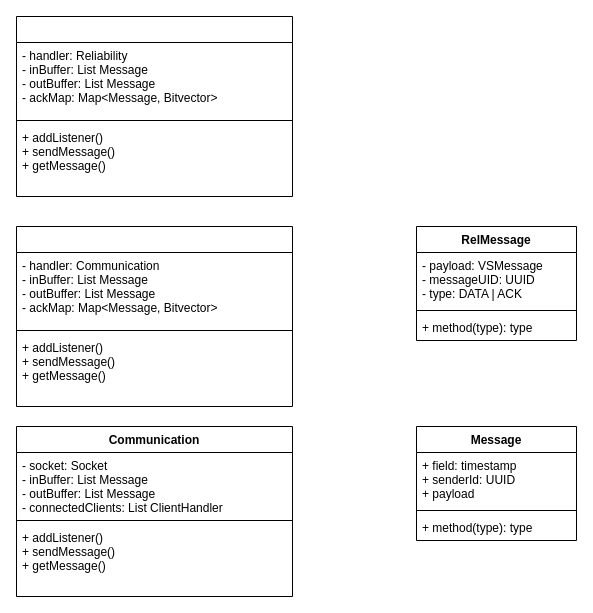
The diagram is 593 pixels wide and 613 high, and some of its shapes have lost their labels. The box of each missing label's shape, as (x1, y1, x2, y2) in pixels:
Reliability: (16, 226, 292, 406)
VSynch: (16, 16, 292, 196)
